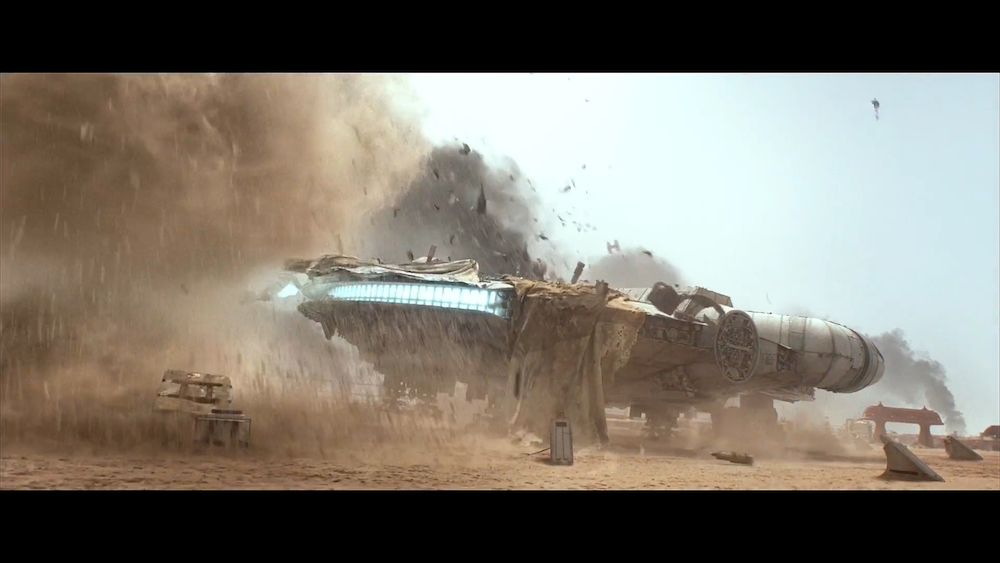Millennium Falcon: (297, 264, 886, 414)
Tie Fighter: (607, 241, 621, 255)
